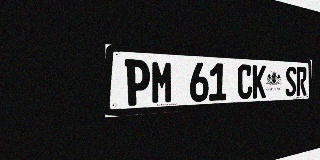1: (209, 63, 226, 101)
6: (190, 62, 209, 102)
C: (237, 64, 252, 99)
K: (252, 65, 266, 99)
M: (151, 60, 173, 105)
P: (125, 59, 150, 106)
R: (296, 67, 307, 96)
S: (285, 66, 296, 97)
